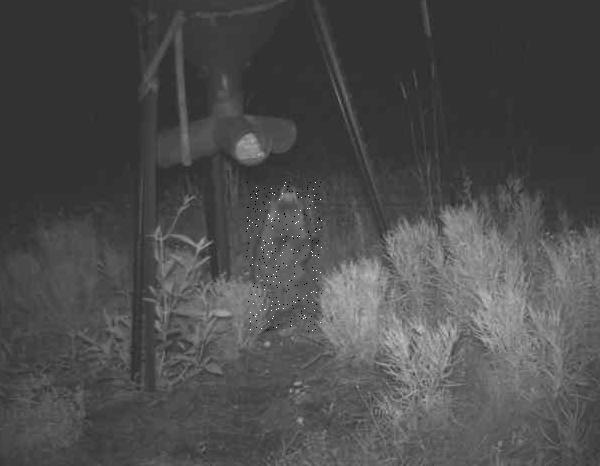Raccoon: (245, 183, 321, 333)
